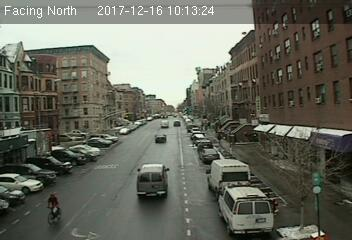bicycle: (43, 191, 64, 226)
car: (199, 148, 219, 161), (153, 132, 167, 142)
police: (217, 184, 273, 236)
truck: (205, 157, 250, 194), (134, 163, 170, 196)
